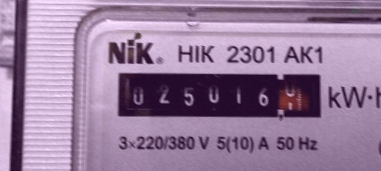0: (207, 81, 221, 104), (131, 84, 144, 106), (283, 77, 295, 97)
1: (232, 80, 243, 106), (285, 100, 293, 111)
2: (157, 81, 170, 105)
5: (182, 85, 193, 106)
6: (256, 84, 269, 109)
screen: (108, 62, 331, 126)
